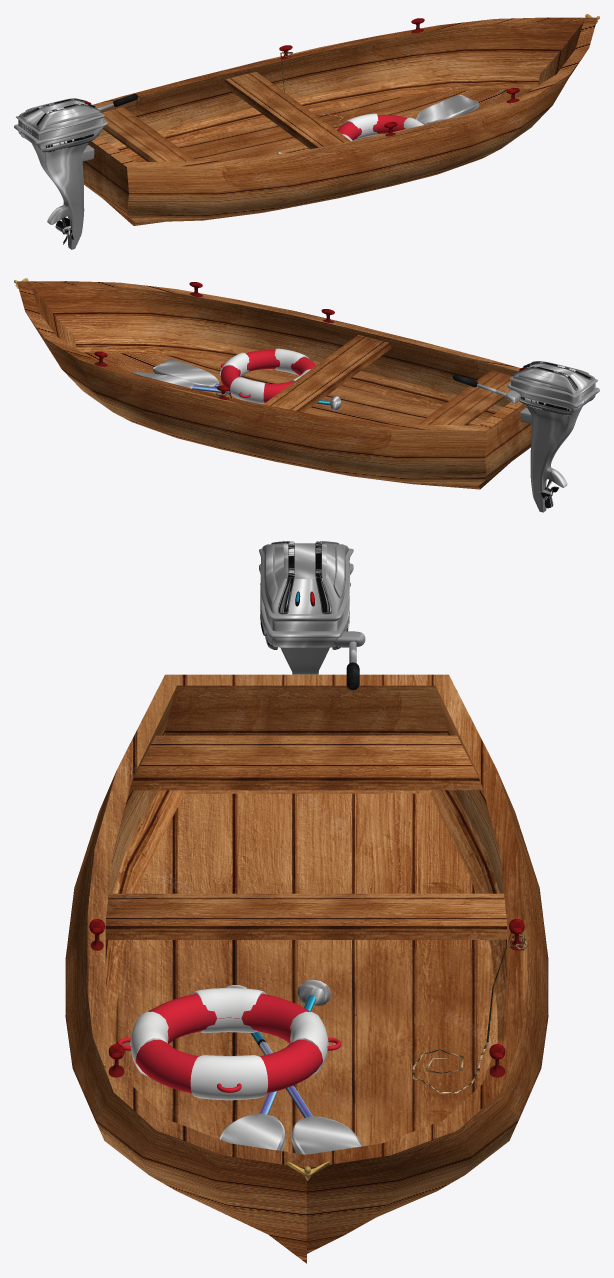
The model's file is motor_boat.glb.
3 renders of one model, top to bottom at view 1: azimuth 30°, elevation 25°; view 2: azimuth 150°, elevation 25°; view 3: azimuth 270°, elevation 25°, orthographic. The views are drawn at different scales.
Parts seen in each view (by area): view 1: Object_11, Object_15, Object_8, Object_6, Object_16, Object_13, Object_14, Object_2; view 2: Object_11, Object_15, Object_14, Object_13, Object_8, Object_6, Object_16, Object_2; view 3: Object_11, Object_13, Object_14, Object_15, Object_16, Object_8, Object_6, Object_2, Object_3.
Part boxes in pixels (box(x1,y1,x2,y2)): Object_11: box(82, 17, 597, 225); Object_15: box(14, 98, 113, 249); Object_8: box(415, 95, 479, 124); Object_6: box(21, 98, 101, 244); Object_16: box(17, 100, 103, 150); Object_13: box(337, 114, 407, 140); Object_14: box(342, 113, 423, 140); Object_2: box(279, 18, 519, 136); Object_11: box(17, 281, 531, 489); Object_15: box(477, 361, 599, 512); Object_14: box(220, 348, 310, 404); Object_13: box(220, 350, 315, 402); Object_8: box(130, 359, 219, 388); Object_6: box(513, 361, 593, 508); Object_16: box(511, 363, 595, 412); Object_2: box(94, 282, 334, 399); Object_11: box(65, 674, 548, 1263); Object_13: box(117, 993, 341, 1093); Object_14: box(130, 987, 328, 1100); Object_15: box(259, 543, 365, 674); Object_16: box(262, 543, 348, 647); Object_8: box(219, 1113, 362, 1154); Object_6: box(260, 541, 350, 649); Object_2: box(89, 919, 524, 1077); Object_3: box(412, 933, 527, 1093).
Size of the model in its own units: 26.08 by 6.53 by 9.5.
Materials: 14 (14 with a texture image).
